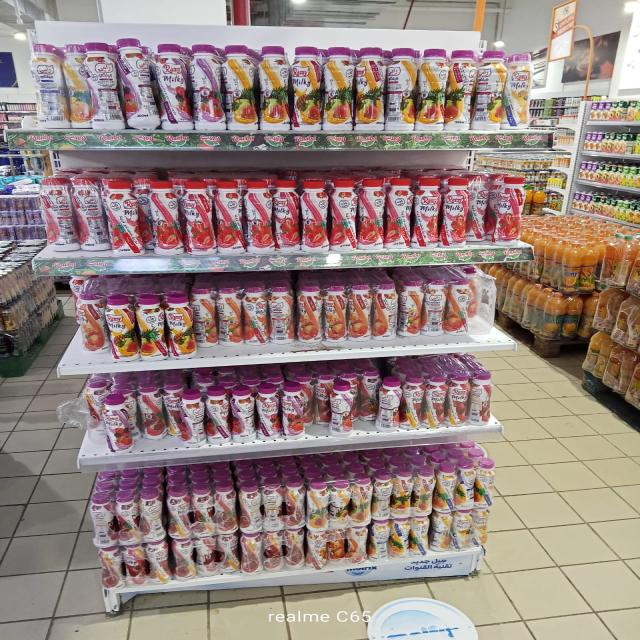ramy_plastique: (113, 40, 158, 130), (81, 44, 124, 130), (153, 42, 193, 130), (29, 44, 69, 130), (188, 44, 226, 131), (68, 174, 110, 252), (223, 44, 259, 130), (40, 175, 80, 251), (102, 178, 140, 256), (258, 45, 292, 131), (290, 46, 324, 131), (355, 47, 388, 132), (148, 180, 184, 256), (323, 46, 355, 130), (386, 48, 418, 131), (414, 48, 446, 130), (501, 56, 536, 130), (181, 180, 215, 255), (473, 51, 505, 130), (447, 50, 478, 131), (492, 177, 528, 246), (213, 180, 246, 255), (104, 292, 139, 361), (244, 180, 276, 254), (135, 293, 169, 361), (300, 177, 330, 254), (329, 176, 359, 252), (272, 179, 302, 254), (442, 176, 472, 250), (385, 176, 414, 251), (464, 173, 494, 245), (76, 287, 108, 354), (356, 176, 384, 252), (101, 394, 133, 457), (190, 288, 220, 353), (296, 278, 324, 344), (179, 387, 209, 448), (345, 279, 373, 344), (242, 283, 271, 345), (322, 280, 350, 344), (168, 295, 195, 360), (160, 378, 187, 442), (114, 489, 144, 546), (229, 384, 257, 445), (139, 381, 167, 442), (190, 480, 219, 538), (215, 286, 243, 346), (397, 277, 423, 341), (372, 277, 398, 341), (416, 179, 440, 248), (328, 379, 356, 438), (205, 385, 233, 444), (268, 282, 294, 345), (375, 376, 403, 434), (138, 486, 166, 542), (400, 374, 427, 432), (213, 477, 240, 535), (280, 382, 306, 442), (255, 383, 281, 443), (422, 276, 448, 336), (85, 375, 112, 432), (166, 482, 193, 538), (448, 278, 474, 336), (238, 480, 264, 536), (90, 490, 115, 548), (466, 372, 492, 426), (144, 538, 174, 584), (446, 374, 472, 427), (412, 463, 437, 518), (260, 478, 285, 533), (424, 374, 448, 430), (327, 479, 353, 530), (311, 368, 333, 428), (284, 476, 308, 531), (389, 468, 414, 520), (306, 480, 331, 532), (359, 366, 381, 425), (434, 461, 458, 515), (170, 535, 198, 581), (453, 460, 478, 511), (350, 473, 374, 526), (97, 545, 125, 590), (122, 545, 152, 587), (215, 531, 241, 578), (192, 532, 219, 576), (307, 528, 334, 571), (449, 506, 474, 552), (474, 458, 497, 508), (428, 507, 453, 552), (239, 532, 264, 576), (407, 512, 431, 557), (325, 529, 352, 569), (261, 529, 285, 573), (368, 517, 391, 562), (372, 470, 392, 520), (347, 523, 370, 566), (285, 530, 308, 570), (470, 507, 490, 547)
